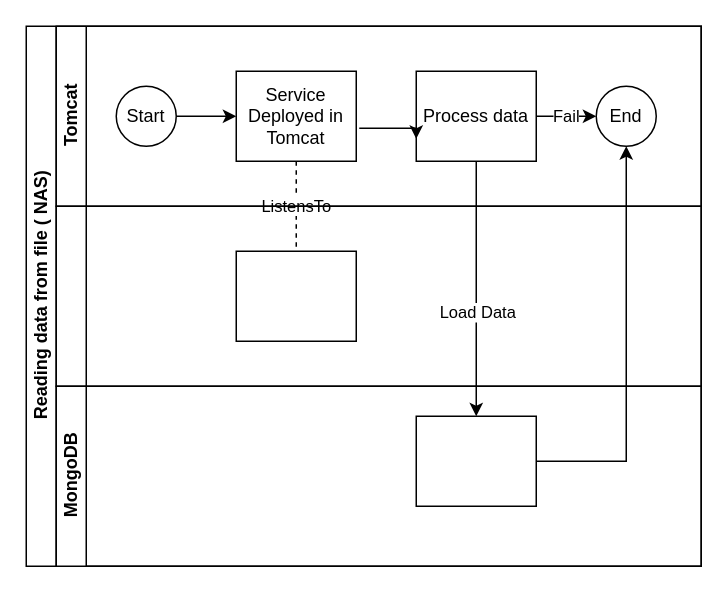
This 728x593 diagram has some shape labels left out. The shapes that lost their labels are listed below. From the top down, each one's box as (x1, y1, x2, y2) in pixels, then its label:
(235, 250, 356, 341): File uploaded in /epay/data
(55, 205, 701, 386): File (NAS)
(415, 415, 536, 506): Mongo DB
